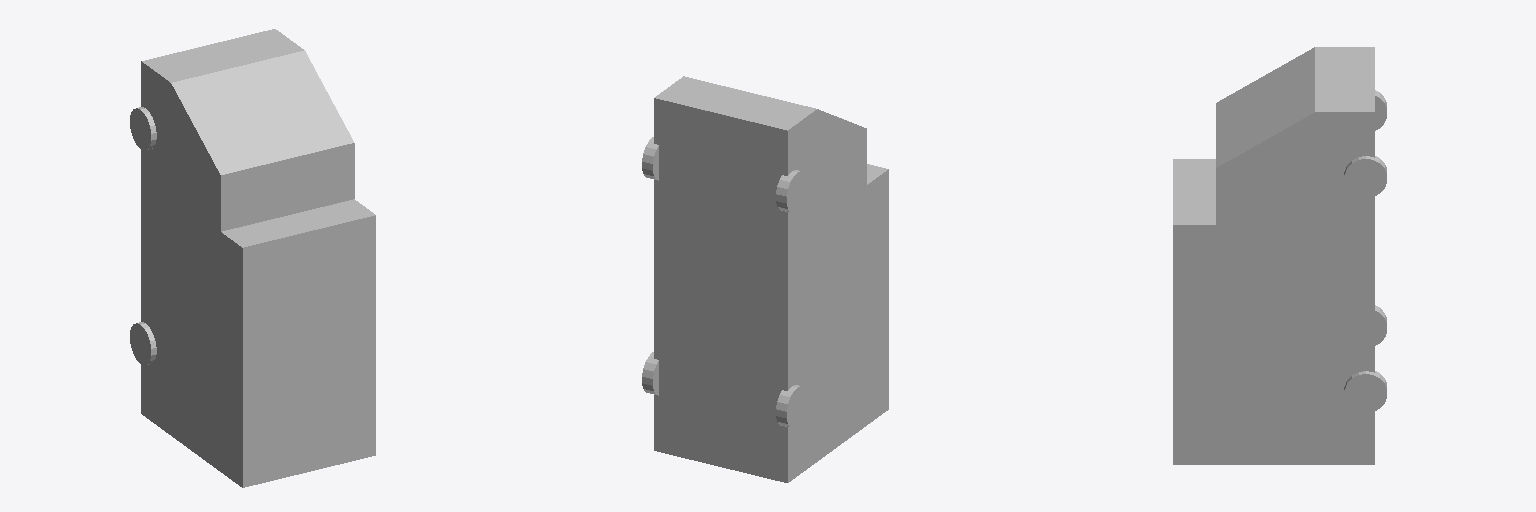
Rendered from truck.obj.
3 views of the same model, side by side, from view 1: azimuth 30°, elevation 25°; view 2: azimuth 150°, elevation 25°; view 3: azimuth 270°, elevation 25° (orthographic).
Parts seen in each view (by area): view 1: _4; view 2: _4; view 3: _4.
Boxes of the visible parts, x1=… form: _4: x1=130, y1=29, x2=375, y2=487; _4: x1=642, y1=76, x2=888, y2=482; _4: x1=1173, y1=47, x2=1386, y2=464.
Size of the model in its own units: 51.85 by 121 by 66.63.